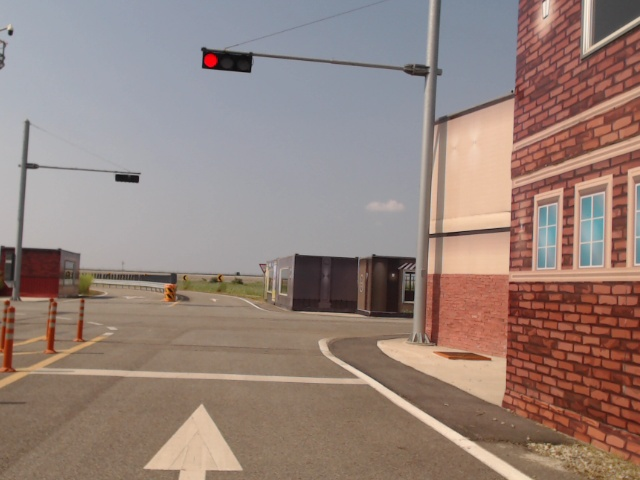red_3: (202, 48, 252, 73)
